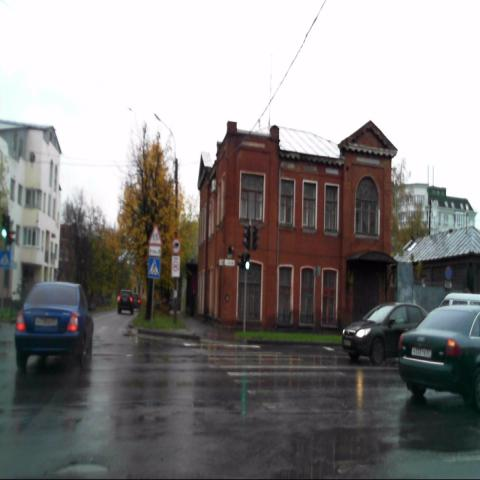1_23: (149, 225, 161, 245)
3_4_1: (171, 238, 180, 253)
5_19_1: (148, 258, 159, 277), (0, 249, 10, 269)
8_2_1: (148, 246, 162, 257)
